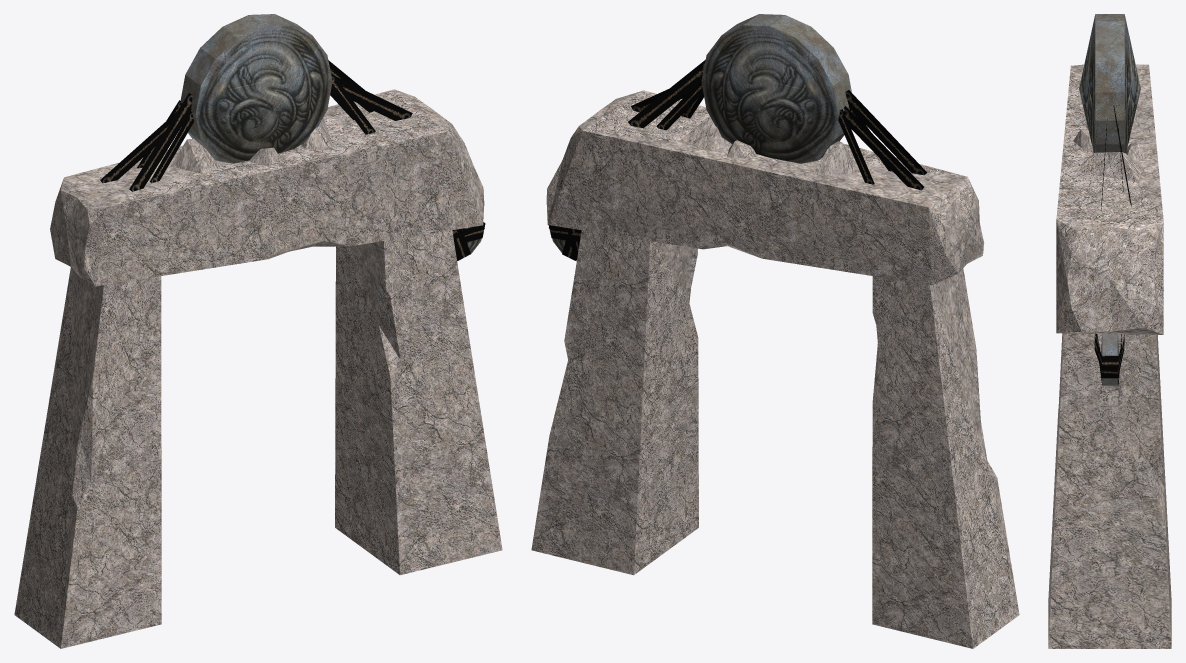
Rendered from thm_dath_mtn_clan_gate_s01_l0.fbx.
The picture shows the model from 3 angles, left to right: view 1: azimuth 30°, elevation 25°; view 2: azimuth 150°, elevation 25°; view 3: azimuth 270°, elevation 25°; orthographic projection. The views are drawn at different scales.
Visible parts, largest first — view 1: mesh_node; view 2: mesh_node; view 3: mesh_node.
Boxes of the visible parts, <box> form: mesh_node: <box>14,14,502,648</box>; mesh_node: <box>531,14,1019,648</box>; mesh_node: <box>1048,14,1171,648</box>.
Size of the model in its own units: 10.73 by 12.89 by 2.73.
